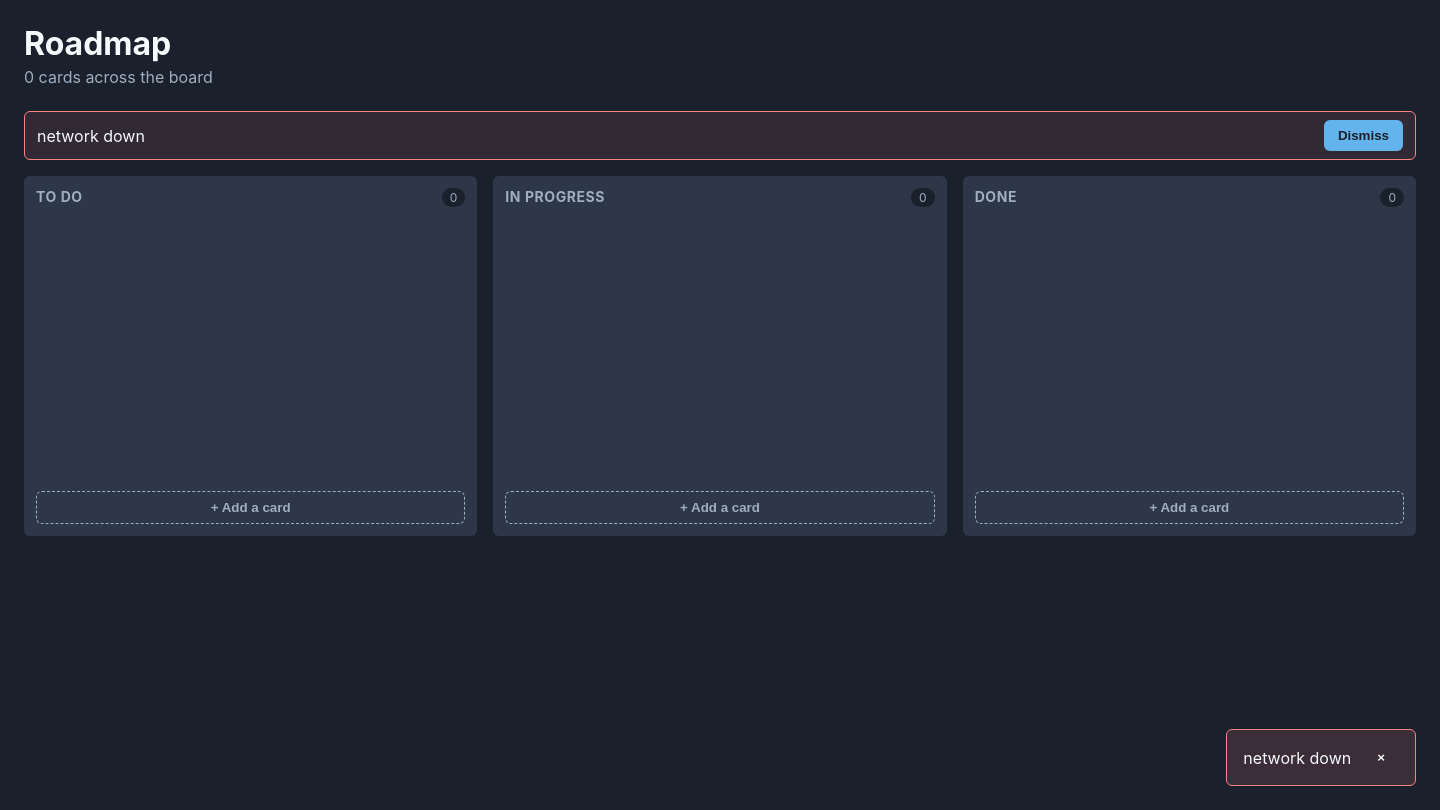
Scenario: <Board /> › shows an error and lets the user dismiss it
Expected: the message "network down Dismiss" is shown, [24, 111, 1416, 160]
Click the button "Dismiss".
click(1363, 136)  # box [1324, 120, 1403, 151]
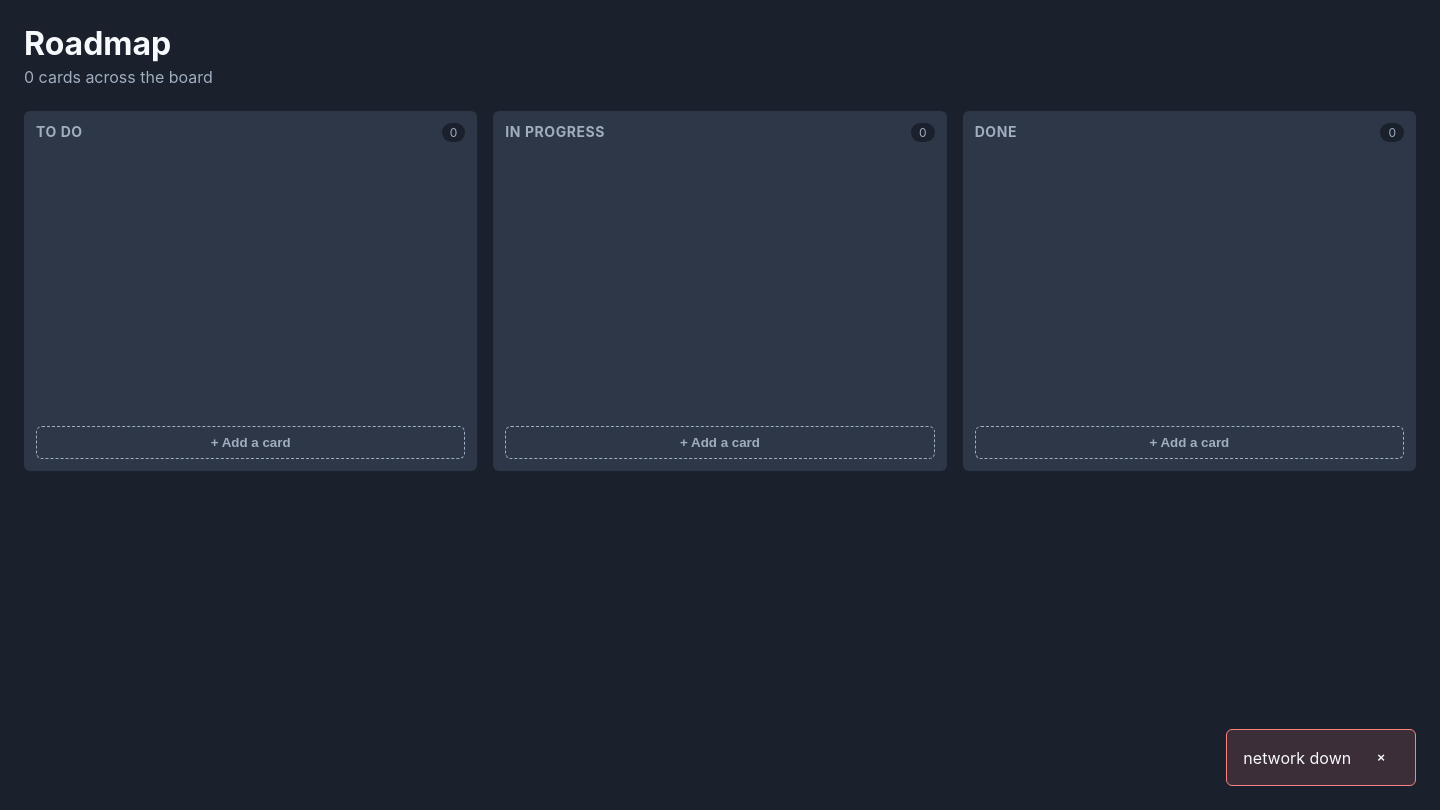
Result: the message "network down Dismiss" is gone
